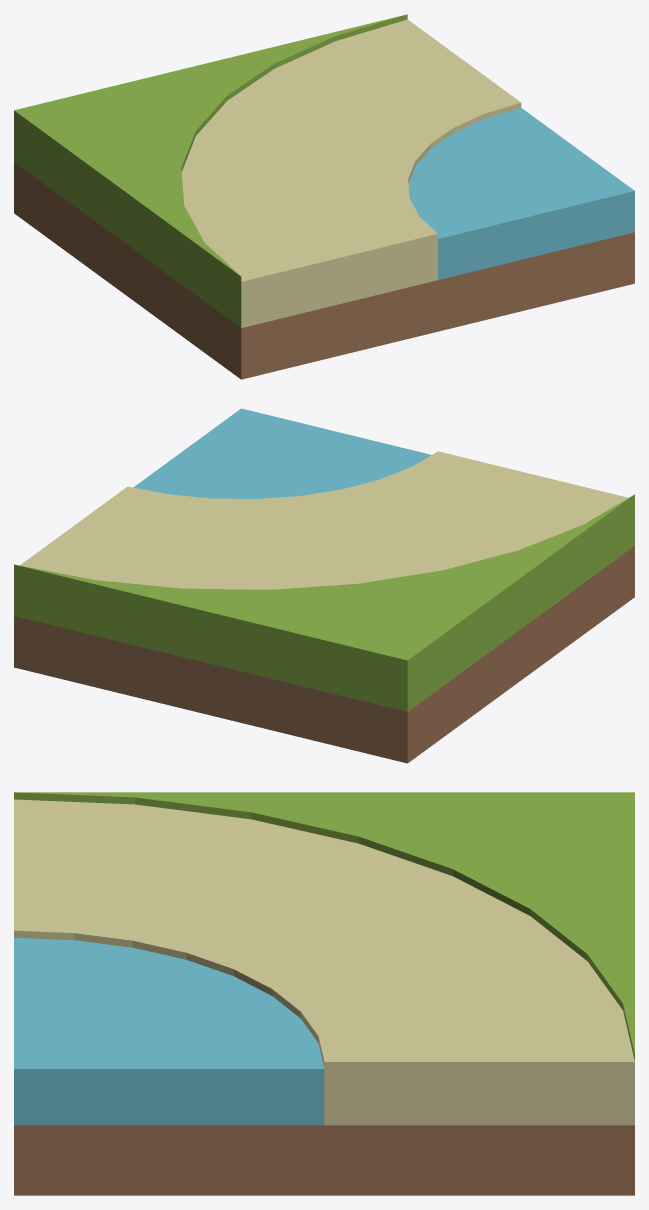
The model's file is water-beach-corner-inner.obj.
3 renders of one model, top to bottom at view 1: azimuth 30°, elevation 25°; view 2: azimuth 150°, elevation 25°; view 3: azimuth 270°, elevation 25°, orthographic. The views are drawn at different scales.
Visible parts, largest first — view 1: water-beach-corner-inner_Cube.042; view 2: water-beach-corner-inner_Cube.042; view 3: water-beach-corner-inner_Cube.042.
Part boxes in pixels (bbox=[...]): water-beach-corner-inner_Cube.042: bbox=[14, 14, 634, 379]; water-beach-corner-inner_Cube.042: bbox=[14, 408, 634, 763]; water-beach-corner-inner_Cube.042: bbox=[14, 792, 634, 1195].
Bounding box in the file's own units: 8 × 2 × 8.
Materials: 1 (1 with a texture image).
